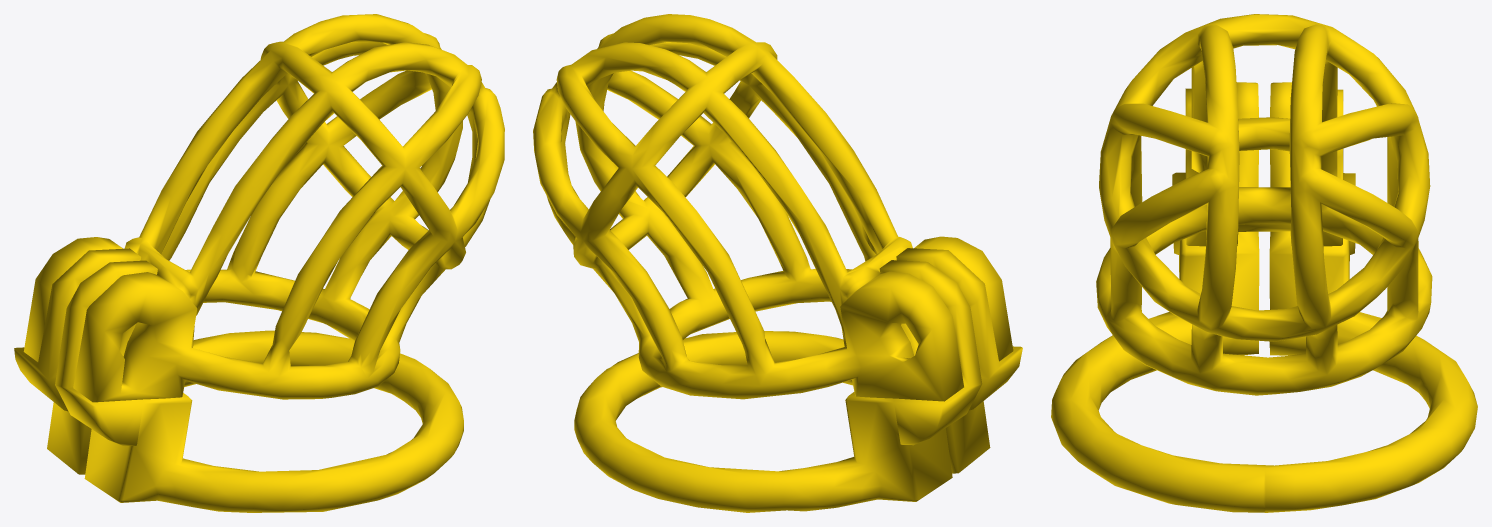
Rendered from chastity_cage.dae.
3 renders of one model, left to right at view 1: azimuth 30°, elevation 25°; view 2: azimuth 150°, elevation 25°; view 3: azimuth 270°, elevation 25°, orthographic. The views are drawn at different scales.
Visible parts, largest first — view 1: TpubitsFBXASC03210FBXASC032Down, TpubitsFBXASC03210FBXASC032DownFBXASC046001; view 2: TpubitsFBXASC03210FBXASC032Down, TpubitsFBXASC03210FBXASC032DownFBXASC046001; view 3: TpubitsFBXASC03210FBXASC032Down, TpubitsFBXASC03210FBXASC032DownFBXASC046001.
Part boxes in pixels (<box>): TpubitsFBXASC03210FBXASC032Down: <box>23,14,504,402</box>; TpubitsFBXASC03210FBXASC032DownFBXASC046001: <box>14,248,463,512</box>; TpubitsFBXASC03210FBXASC032Down: <box>533,14,1013,401</box>; TpubitsFBXASC03210FBXASC032DownFBXASC046001: <box>574,248,1022,512</box>; TpubitsFBXASC03210FBXASC032Down: <box>1096,14,1432,395</box>; TpubitsFBXASC03210FBXASC032DownFBXASC046001: <box>1051,82,1477,512</box>.
Bounding box in the file's own units: 0.7134 × 0.6176 × 0.5421.
